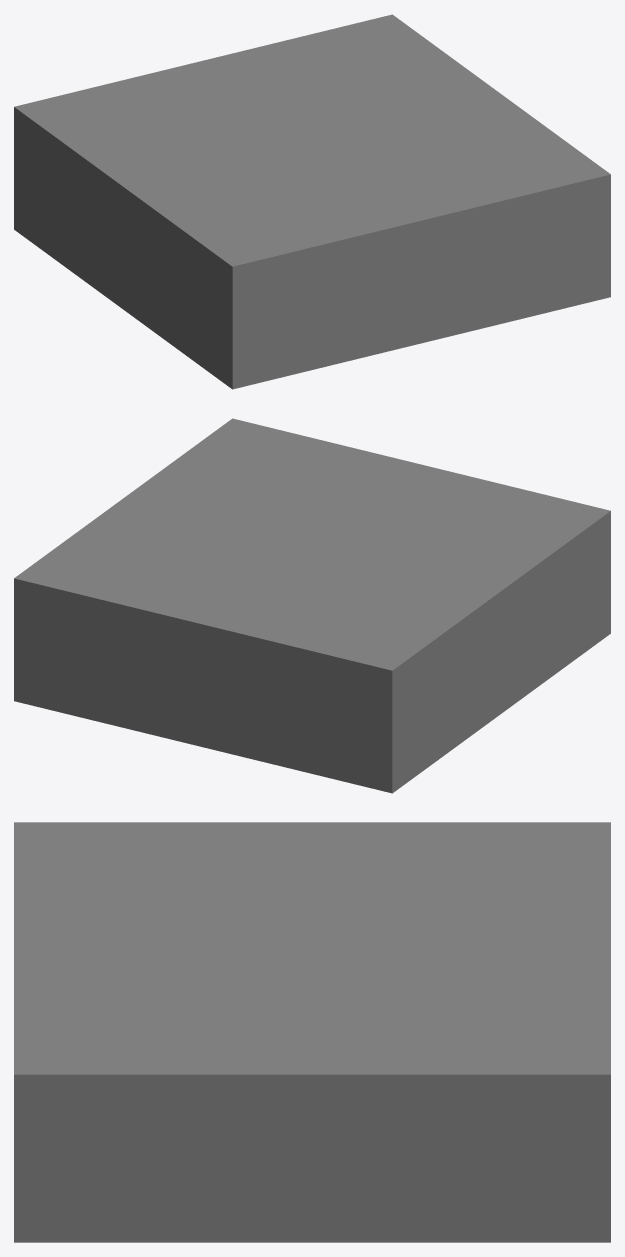
Rendered from StationBase.fbx.
The picture shows the model from 3 angles, top to bottom: view 1: azimuth 30°, elevation 25°; view 2: azimuth 150°, elevation 25°; view 3: azimuth 270°, elevation 25°; orthographic projection. The views are drawn at different scales.
Parts seen in each view (by area): view 1: cube_4, cube_15, cube_9, cube, cube_11; view 2: cube_4, cube_11, cube_9, cube, cube_10; view 3: cube_4, cube_10, cube, cube_15.
Boxes of the visible parts, box(x1,y1,x2,y2) form: cube_4: box(14, 14, 610, 274); cube_15: box(240, 182, 610, 379); cube_9: box(18, 118, 239, 381); cube: box(14, 222, 610, 389); cube_11: box(14, 115, 18, 224); cube_4: box(14, 418, 610, 678); cube_11: box(21, 588, 396, 785); cube_9: box(397, 519, 610, 781); cube: box(14, 626, 610, 793); cube_10: box(14, 586, 21, 694); cube_4: box(14, 822, 610, 1085); cube_10: box(26, 1085, 610, 1231); cube: box(14, 1231, 610, 1242); cube_15: box(14, 1085, 25, 1231).
Size of the model in its own units: 625 by 194 by 625.
Materials: 16 (16 with a texture image).
